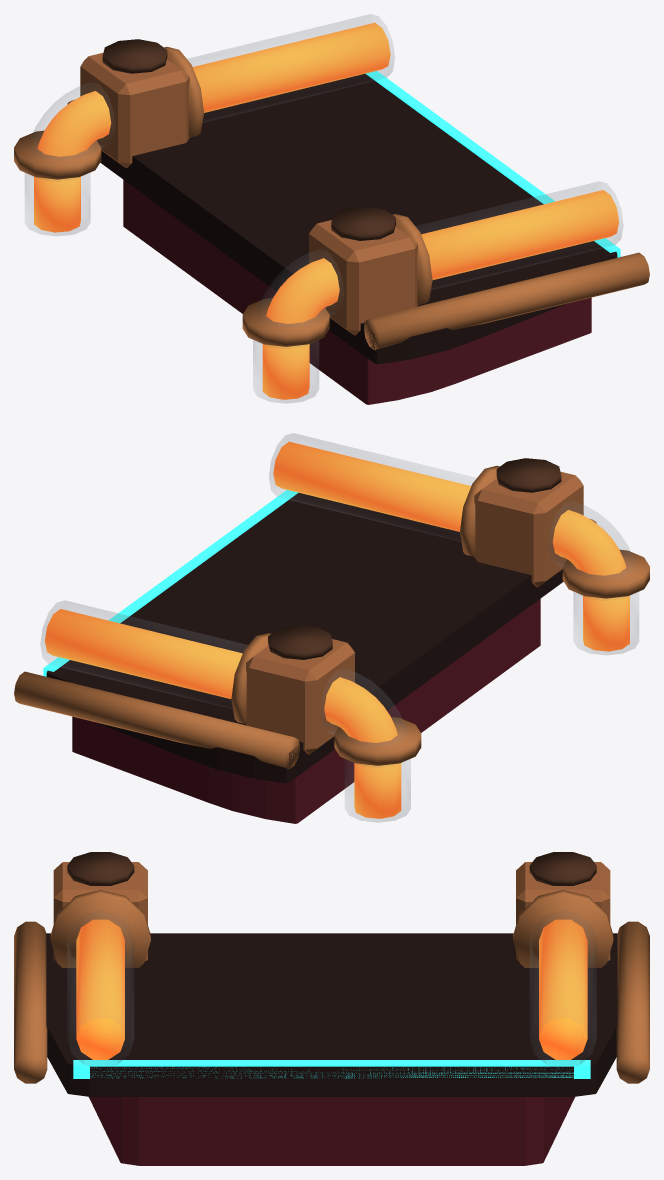
File: Pier_Connector.glb
3 renders of one model, top to bottom at view 1: azimuth 30°, elevation 25°; view 2: azimuth 150°, elevation 25°; view 3: azimuth 270°, elevation 25°, orthographic.
Visible parts, largest first — view 1: CP_Pier_Connector; view 2: CP_Pier_Connector; view 3: CP_Pier_Connector.
Part boxes in pixels (box(x1,y1,x2,y2)): CP_Pier_Connector: box(14, 14, 649, 404); CP_Pier_Connector: box(14, 433, 649, 823); CP_Pier_Connector: box(14, 852, 649, 1165).
Bounding box in the file's own units: 2.76 × 1.31 × 4.18.
